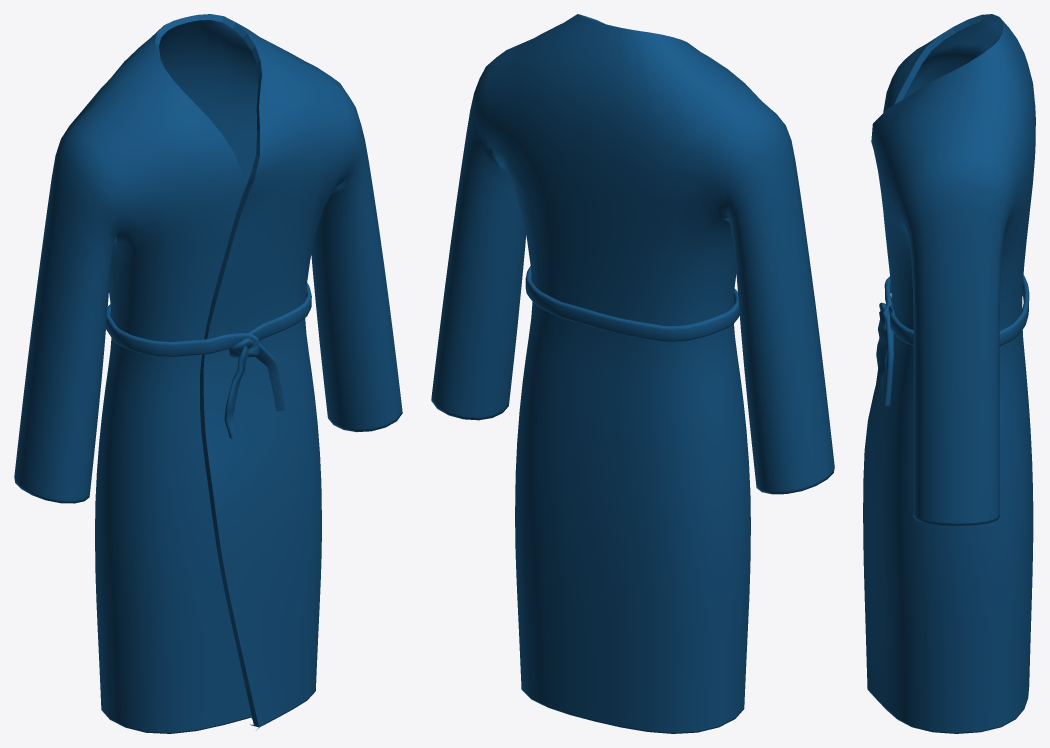
File: Xalat.fbx
The picture shows the model from 3 angles, left to right: view 1: azimuth 30°, elevation 25°; view 2: azimuth 150°, elevation 25°; view 3: azimuth 270°, elevation 25°; orthographic projection. The views are drawn at different scales.
Parts seen in each view (by area): view 1: Cube.002, NurbsPath; view 2: Cube.002, NurbsPath; view 3: Cube.002, NurbsPath.
Boxes of the visible parts, left/top/right/bottom form: Cube.002: left=14, top=14, right=402, bottom=733; NurbsPath: left=106, top=283, right=311, bottom=438; Cube.002: left=431, top=14, right=834, bottom=733; NurbsPath: left=525, top=266, right=739, bottom=341; Cube.002: left=863, top=14, right=1035, bottom=733; NurbsPath: left=875, top=275, right=1029, bottom=405.
Bounding box in the file's own units: 261 × 446 × 105.
Materials: 2 (2 with a texture image).
